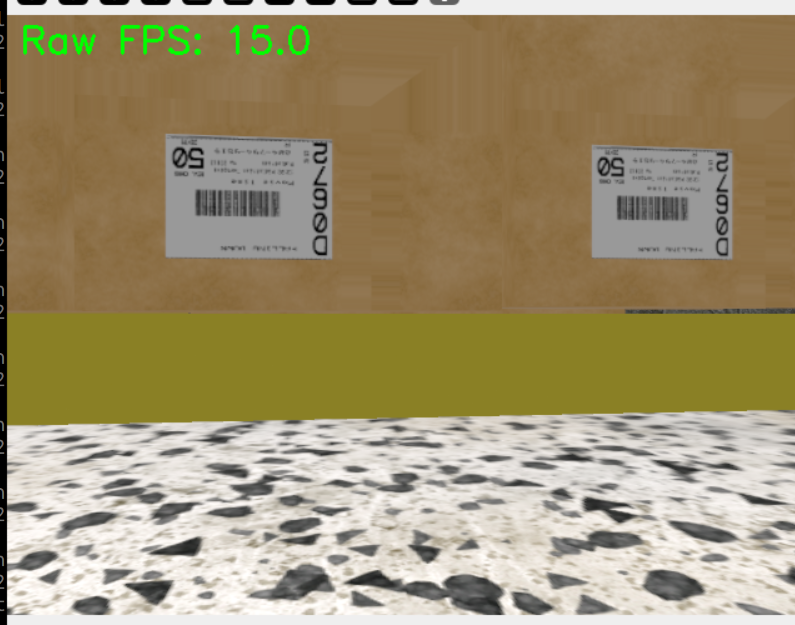barcode: (161, 132, 335, 264), (590, 142, 735, 263)
